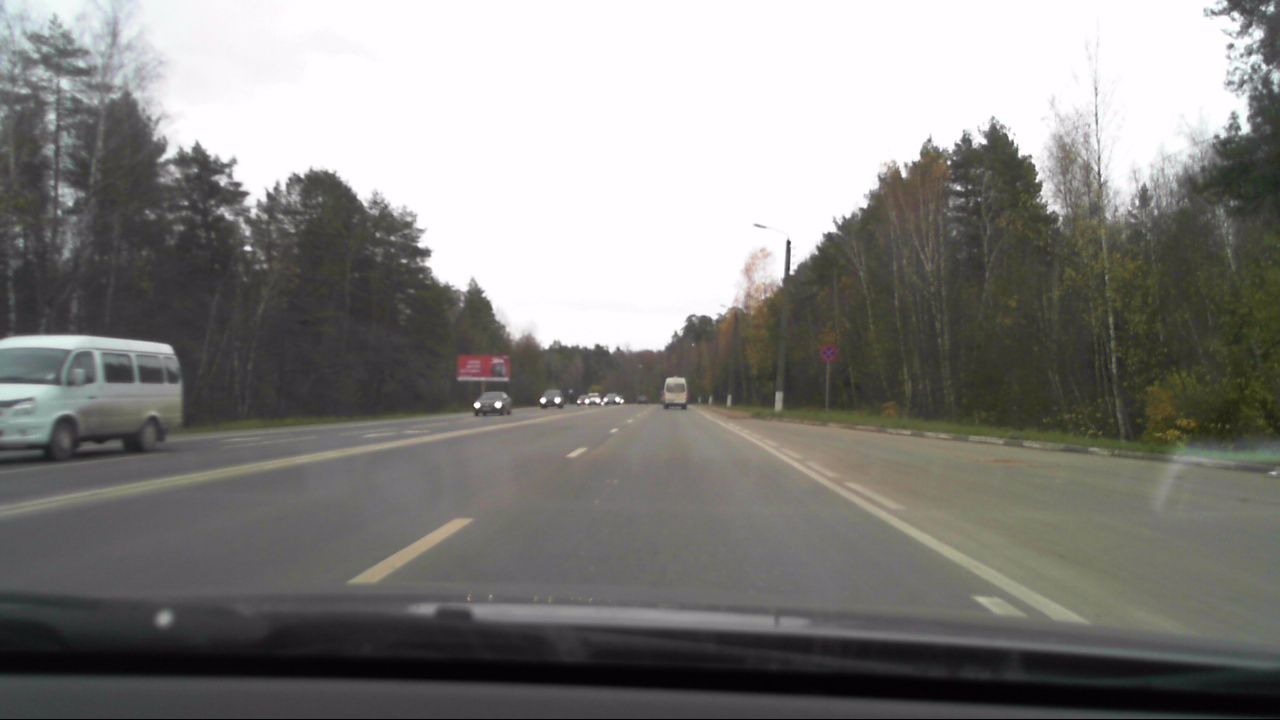No Parking: (818, 344, 835, 363)
